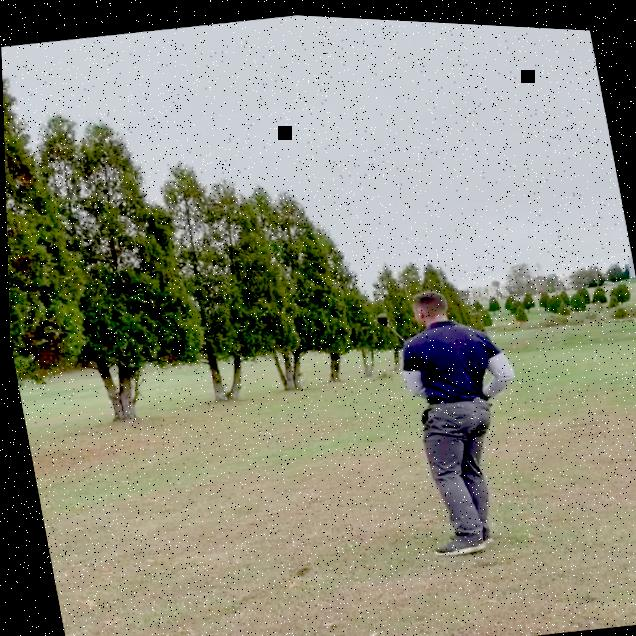ClubHead: (372, 307, 388, 324)
